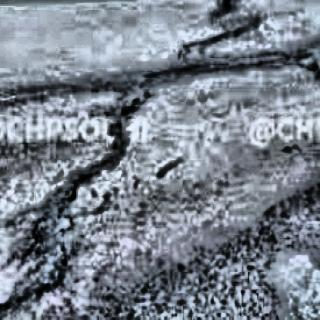alligator-crack: (3, 96, 155, 317), (137, 1, 319, 88)
